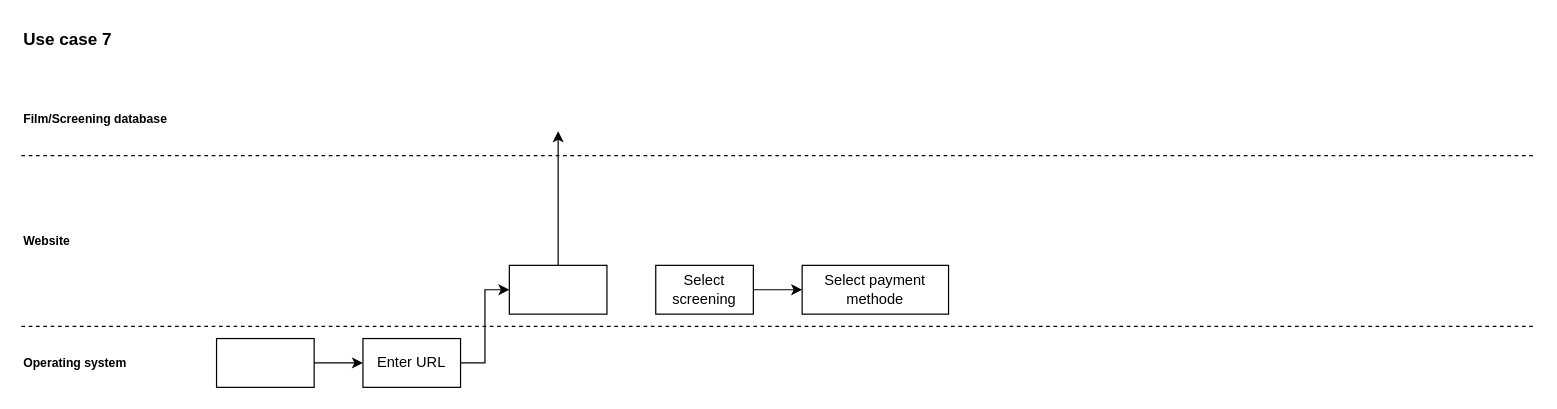
This 1557x409 diagram has some shape labels left out. Here are the shapes that lost their labels. From the top down, the centre of each, then its label:
At (557,289): "Search film".
At (264,362): "Open web browser".
